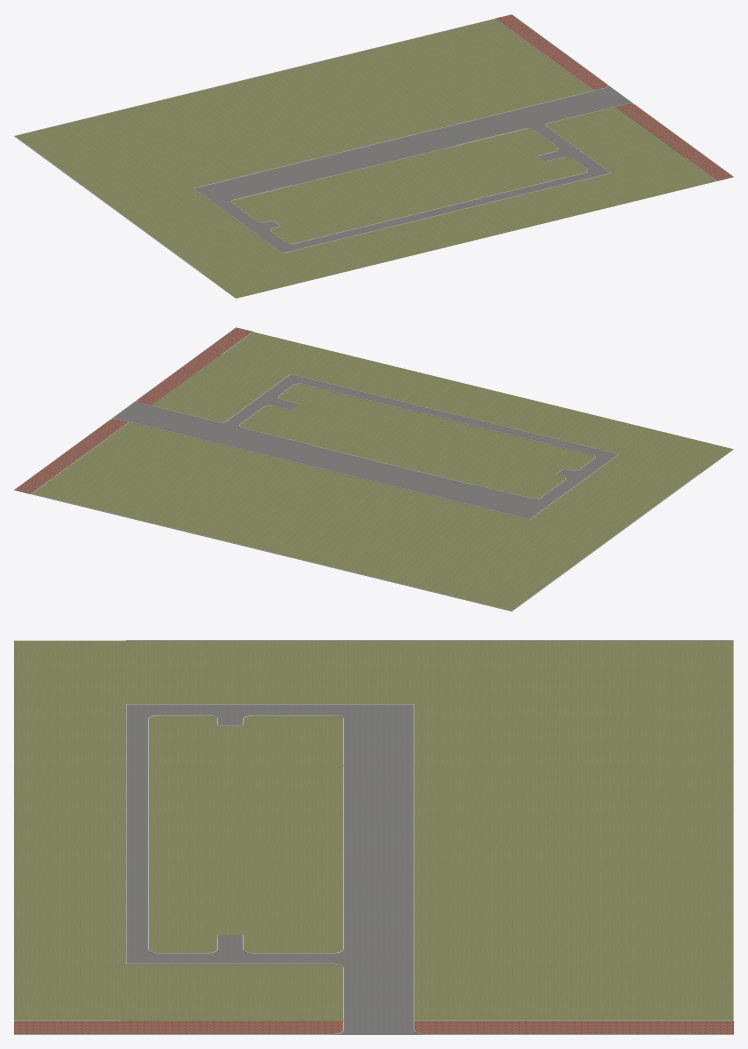
Rendered from foorGround.glb.
3 renders of one model, top to bottom at view 1: azimuth 30°, elevation 25°; view 2: azimuth 150°, elevation 25°; view 3: azimuth 270°, elevation 25°, orthographic. The views are drawn at different scales.
Visible parts, largest first — view 1: 地面; view 2: 地面; view 3: 地面.
Part boxes in pixels (x1,y1,x2,y2): 地面: [14, 14, 733, 298]; 地面: [14, 327, 733, 611]; 地面: [14, 640, 733, 1034].
Size of the model in its own units: 158 by 0.1 by 122.
Materials: 4 (3 with a texture image).
